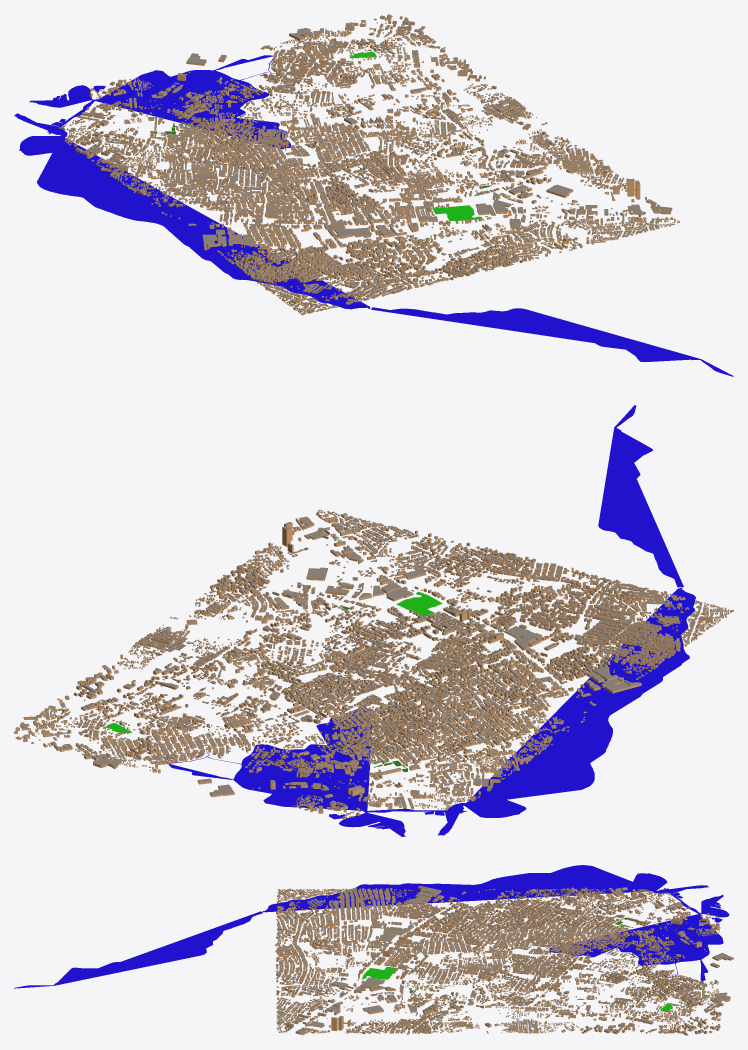
Rendered from trikeroute.fbx.
3 views of the same model, one above another, from view 1: azimuth 30°, elevation 25°; view 2: azimuth 150°, elevation 25°; view 3: azimuth 270°, elevation 25° (orthographic). The views are drawn at different scales.
Parts seen in each view (by area): view 1: map_19.osm_buildings, map_19.osm_water, map_19.osm_vegetation; view 2: map_19.osm_buildings, map_19.osm_water, map_19.osm_vegetation; view 3: map_19.osm_buildings, map_19.osm_water, map_19.osm_vegetation.
Part boxes in pixels (x1=…): map_19.osm_buildings: x1=59, y1=14, x2=679, y2=315; map_19.osm_water: x1=14, y1=55, x2=733, y2=376; map_19.osm_vegetation: x1=158, y1=51, x2=590, y2=221; map_19.osm_buildings: x1=14, y1=509, x2=733, y2=818; map_19.osm_water: x1=168, y1=405, x2=695, y2=836; map_19.osm_vegetation: x1=105, y1=591, x2=442, y2=764; map_19.osm_buildings: x1=275, y1=885, x2=733, y2=1035; map_19.osm_water: x1=14, y1=865, x2=729, y2=988; map_19.osm_vegetation: x1=313, y1=917, x2=672, y2=1029.
Bounding box in the file's own units: 375190 × 12670 × 668491.
